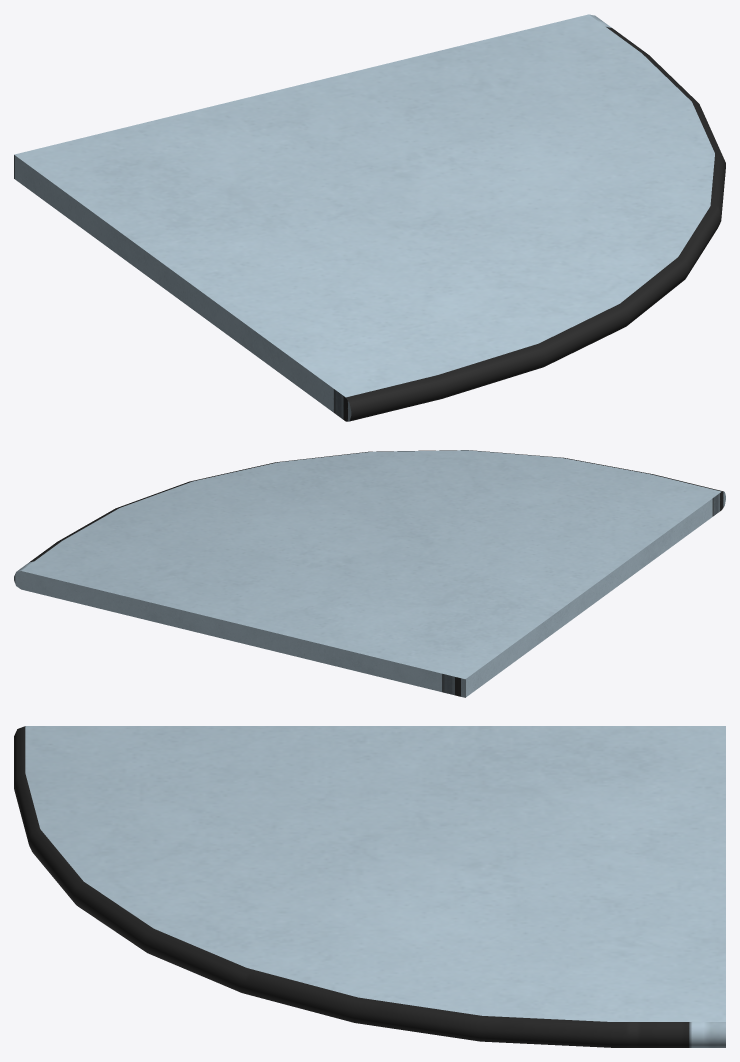
Rendered from table3.glb.
3 renders of one model, top to bottom at view 1: azimuth 30°, elevation 25°; view 2: azimuth 150°, elevation 25°; view 3: azimuth 270°, elevation 25°, orthographic. The views are drawn at different scales.
Parts seen in each view (by area): view 1: table.005; view 2: table.005; view 3: table.005.
Boxes of the visible parts, <box> form: table.005: <box>14,14,725,421</box>; table.005: <box>14,450,725,697</box>; table.005: <box>14,726,725,1047</box>.
Bounding box in the file's own units: 0.8 × 0.0315 × 0.8.
Materials: 1 (1 with a texture image).
